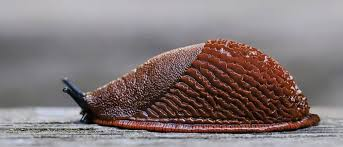slug: (64, 41, 322, 130)
